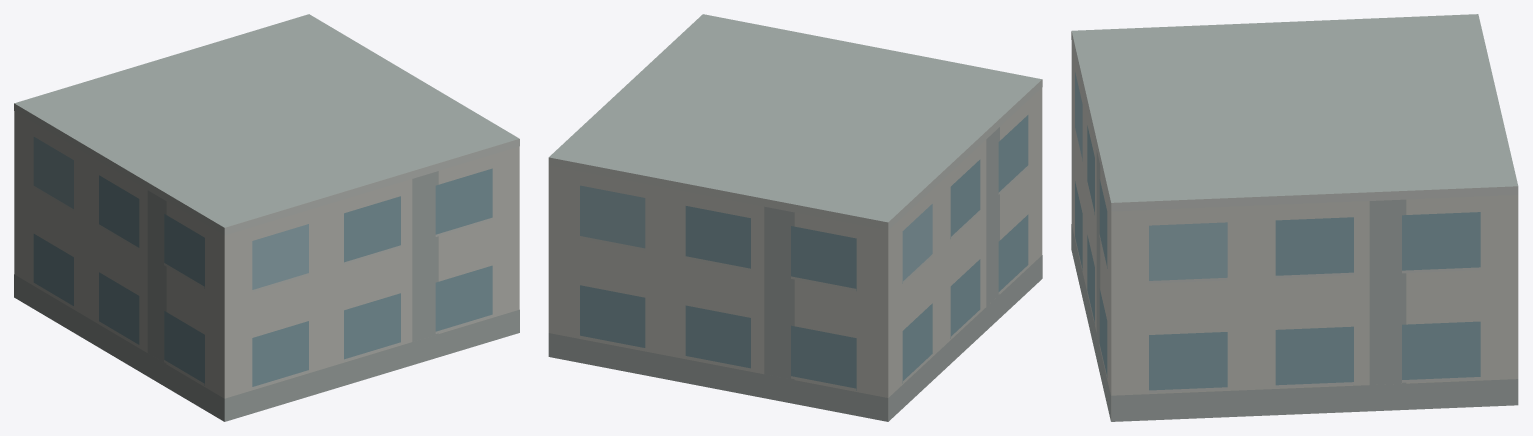
Rendered from survey-upis-32632600.glb.
The picture shows the model from 3 angles, left to right: view 1: azimuth 30°, elevation 25°; view 2: azimuth 150°, elevation 25°; view 3: azimuth 270°, elevation 25°; orthographic projection. The views are drawn at different scales.
Parts seen in each view (by area): view 1: survey-upis-32632600.tmp; view 2: survey-upis-32632600.tmp; view 3: survey-upis-32632600.tmp.
Part boxes in pixels (<box>): survey-upis-32632600.tmp: <box>14,14,519,421</box>; survey-upis-32632600.tmp: <box>548,14,1042,421</box>; survey-upis-32632600.tmp: <box>1071,14,1518,421</box>.
Size of the model in its own units: 11.29 by 6.1 by 11.29.
